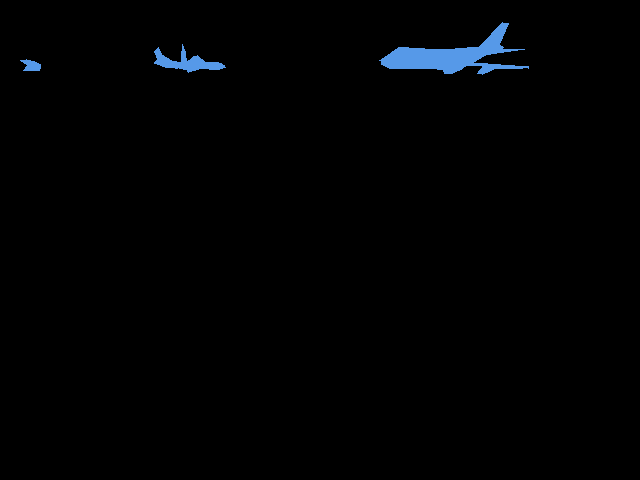Airplane: (379, 22, 528, 74), (154, 44, 226, 72), (20, 59, 41, 70)
